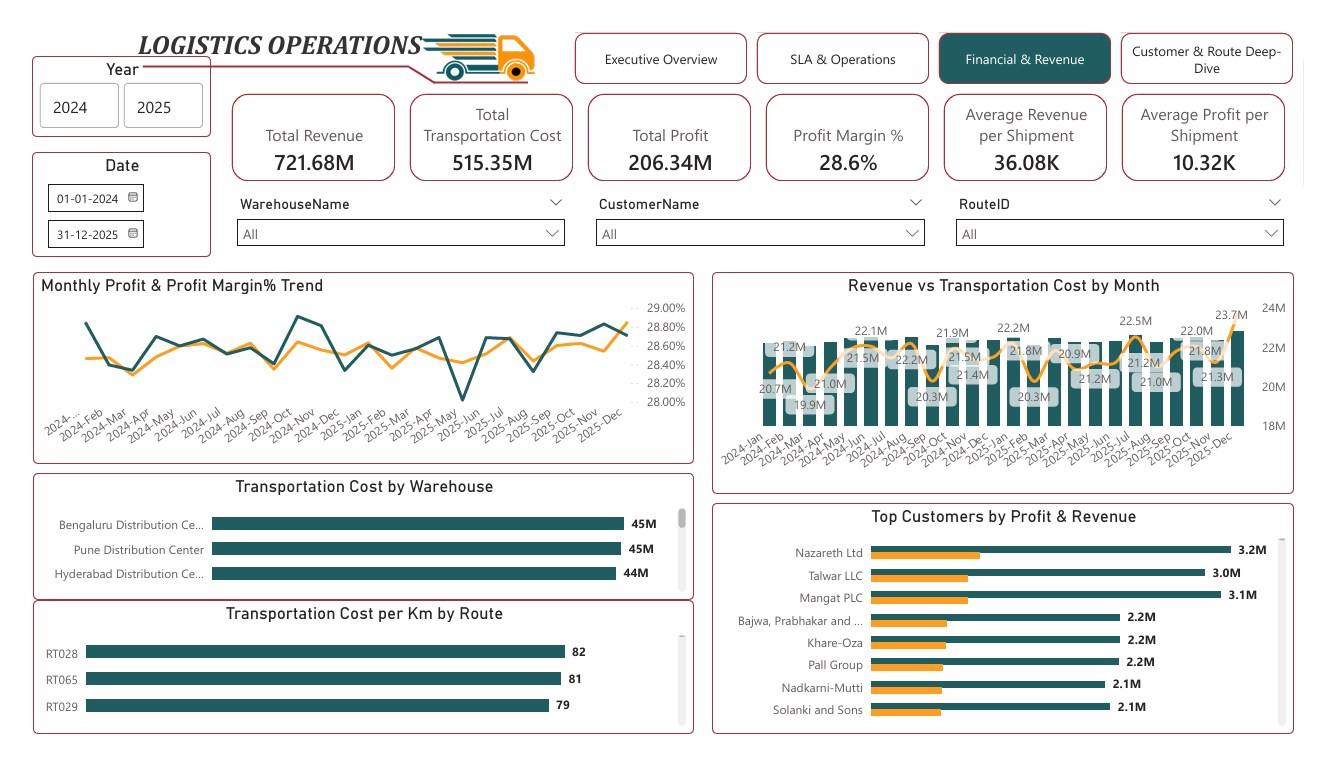

What the dashboard file says about the page in this screenshot:
{"tool":"powerbi","page":{"name":"Financial & Revenue","canvas":[1280,720],"ordinal":2},"visuals":[{"type":"image","box":[395.7,0,120,64.3],"z":0,"group":"g1"},{"type":"shape","box":[118.3,27.5,268.3,29.2],"z":0,"group":"g2"},{"type":"shape","box":[409.1,48.3,95.8,19.2],"z":1000,"group":"g2"},{"type":"shape","box":[383.8,41.2,28.5,18.1],"z":2000,"group":"g2"},{"type":"slicer","title":"Date","fields":{"Values":["DimDate.Date"]},"box":[8.2,127.6,178.4,105.7],"z":2000},{"type":"slicer","fields":{"Values":["DimWarehouse.WarehouseName"]},"box":[202.8,166.7,348.3,65.9],"z":3000},{"type":"slicer","fields":{"Values":["DimCustomer.CustomerName"]},"box":[562.3,166.7,348.3,66],"z":4000},{"type":"slicer","fields":{"Values":["DimRoute.RouteID"]},"box":[921.8,166.7,348.3,66],"z":5000},{"type":"advancedSlicerVisual","fields":{"Values":["DimDate.Year"]},"box":[8.2,31.6,178.4,81],"z":6000},{"type":"cardVisual","fields":{"Data":["Measure.Total Revenue","Measure.Total Transportation Cost","Measure.Total Profit","Measure.Profit Margin %","Measure.Average Revenue per Shipment","Measure.Average Profit per Shipment"]},"box":[202.8,64.7,1067.3,97],"z":7000},{"type":"lineClusteredColumnComboChart","title":"Revenue vs Transportation Cost by Month","fields":{"Category":["DimDate.YearMonth"],"Y":["Measure.Total Revenue"],"Y2":["Measure.Total Transportation Cost"]},"box":[687.5,247.7,582.6,222.4],"z":8000},{"type":"lineChart","title":"Monthly Profit & Profit Margin% Trend","fields":{"Y":["Measure.Total Profit"],"Category":["DimDate.YearMonth"],"Y2":["Measure.Profit Margin %"]},"box":[8.8,247.7,661,192.1],"z":9000},{"type":"clusteredBarChart","title":"Transportation Cost by Warehouse","fields":{"Category":["DimWarehouse.WarehouseName"],"Y":["Measure.Total Transportation Cost"]},"box":[8.8,448.7,661,127.6],"z":10000},{"type":"clusteredBarChart","title":"Transportation Cost per Km by Route","fields":{"Y":["Measure.Transportation Cost per Km"],"Category":["DimRoute.RouteID"]},"box":[8.8,576.3,661,134],"z":11000},{"type":"clusteredBarChart","title":"Top Customers by Profit & Revenue","fields":{"Category":["DimCustomer.CustomerName"],"Y":["Measure.Total Revenue","Measure.Total Profit"]},"box":[687.5,479,582.6,231.3],"z":12000},{"type":"pageNavigator","box":[551.4,8.6,718.6,51.4],"z":13000},{"type":"group","id":"g1","title":"Group 2","box":[97.1,0,418.6,67.5],"z":14001},{"type":"textbox","box":[97.1,0,311.4,57.1],"z":15000,"group":"g1"},{"type":"group","id":"g2","title":"Group 1","box":[118.3,27.5,386.7,40],"z":17002,"group":"g1"}]}

Visuals, with their boxes in screenshot pixels (x1, y1, x2, y2), scaled from the page's 1280x720 canvas onto the 1325x762 screenshot:
image: BBox(410, 0, 534, 68)
shape: BBox(122, 29, 400, 60)
shape: BBox(423, 51, 523, 71)
shape: BBox(397, 44, 427, 63)
"Date" slicer: BBox(8, 135, 193, 247)
slicer - DimWarehouse.WarehouseName: BBox(210, 176, 570, 246)
slicer - DimCustomer.CustomerName: BBox(582, 176, 943, 246)
slicer - DimRoute.RouteID: BBox(954, 176, 1315, 246)
advancedSlicerVisual - DimDate.Year: BBox(8, 33, 193, 119)
cardVisual - Measure.Total Revenue x Measure.Total Transportation Cost: BBox(210, 68, 1315, 171)
"Revenue vs Transportation Cost by Month" lineClusteredColumnComboChart: BBox(712, 262, 1315, 498)
"Monthly Profit & Profit Margin% Trend" lineChart: BBox(9, 262, 693, 465)
"Transportation Cost by Warehouse" clusteredBarChart: BBox(9, 475, 693, 610)
"Transportation Cost per Km by Route" clusteredBarChart: BBox(9, 610, 693, 752)
"Top Customers by Profit & Revenue" clusteredBarChart: BBox(712, 507, 1315, 752)
pageNavigator: BBox(571, 9, 1315, 64)
"Group 2" group: BBox(101, 0, 534, 71)
textbox: BBox(101, 0, 423, 60)
"Group 1" group: BBox(122, 29, 523, 71)
